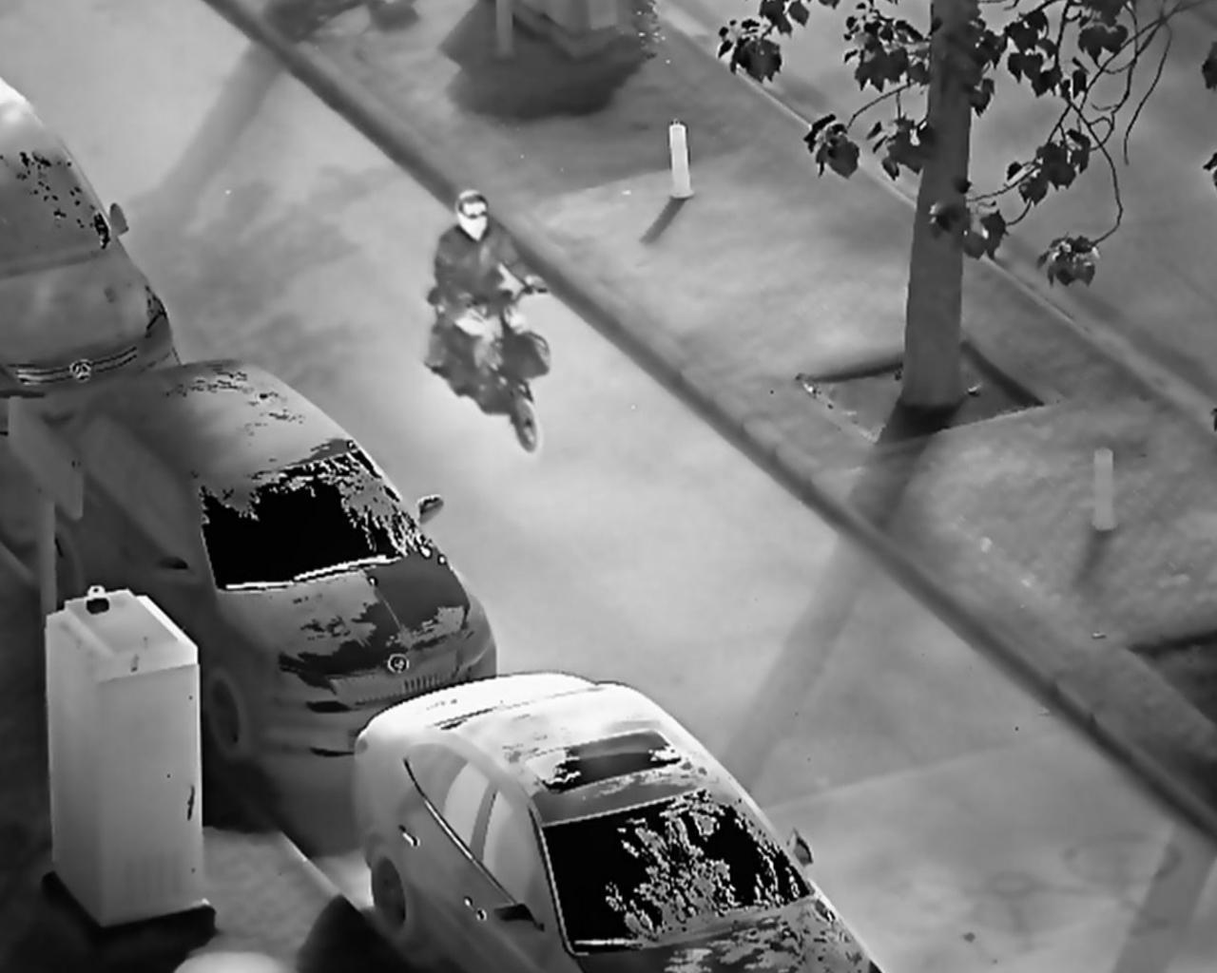person: (425, 185, 552, 404)
